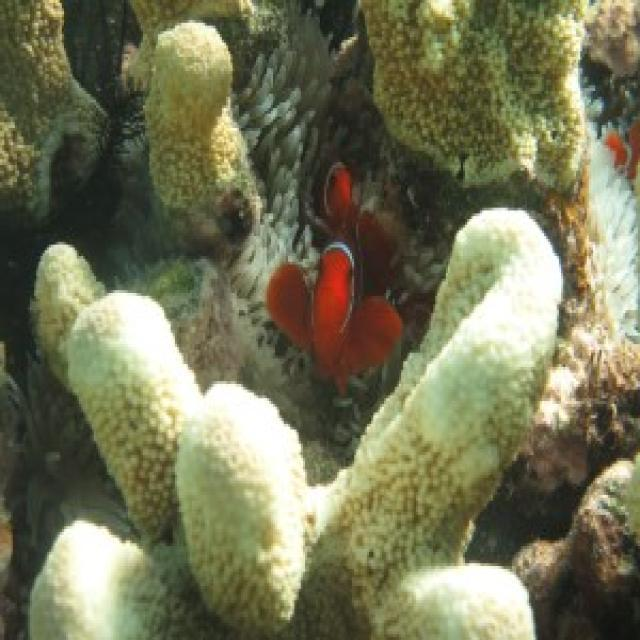Bleached: (309, 203, 567, 640), (177, 381, 307, 638), (71, 292, 198, 547), (147, 24, 262, 254), (560, 140, 640, 435), (29, 519, 174, 635), (364, 558, 537, 640), (34, 240, 112, 393), (581, 463, 639, 581)
Healthy: (362, 1, 588, 183), (1, 1, 100, 219), (514, 511, 579, 598), (589, 3, 640, 83)
